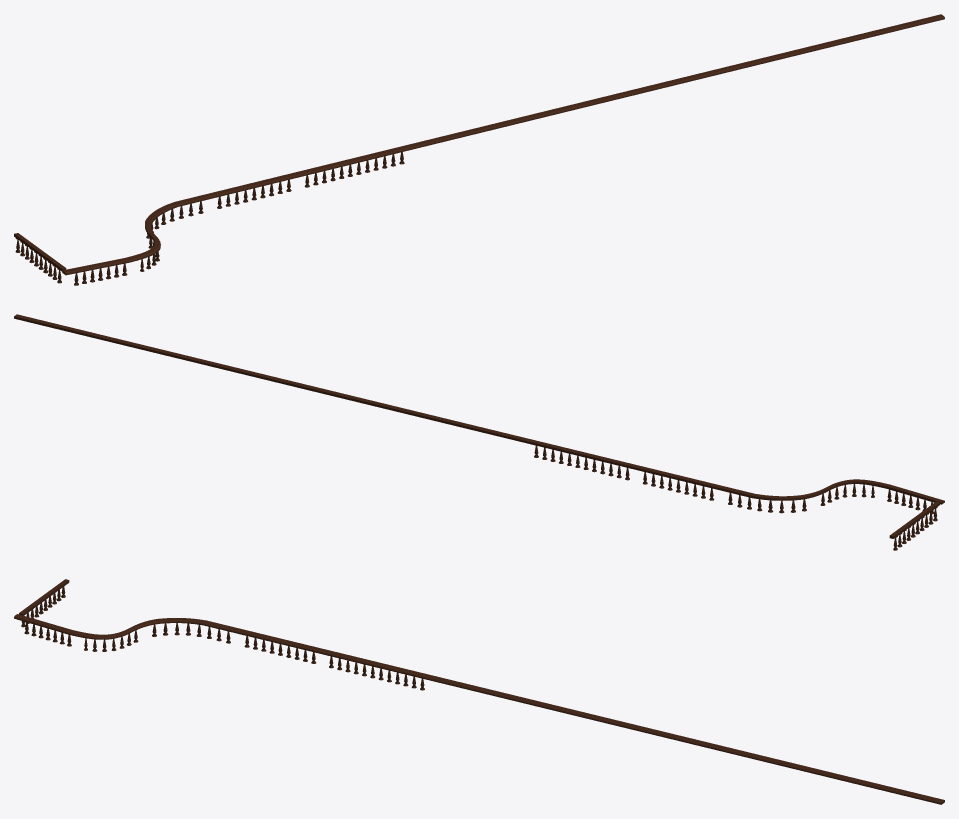
File: railing.fbx
3 views of the same model, one above another, from view 1: azimuth 30°, elevation 25°; view 2: azimuth 150°, elevation 25°; view 3: azimuth 330°, elevation 25° (orthographic). The views are drawn at different scales.
Visible parts, largest first — view 1: Cube.043, Cylinder.023; view 2: Cube.043, Cylinder.023; view 3: Cube.043, Cylinder.023.
Boxes of the visible parts, x1,y1,x2,y2 form: Cube.043: [62, 14, 944, 275]; Cylinder.023: [304, 152, 404, 187]; Cube.043: [14, 314, 944, 504]; Cylinder.023: [534, 445, 629, 480]; Cube.043: [14, 614, 944, 804]; Cylinder.023: [329, 656, 424, 690].
Size of the model in its own units: 25929 by 442 by 2707.
